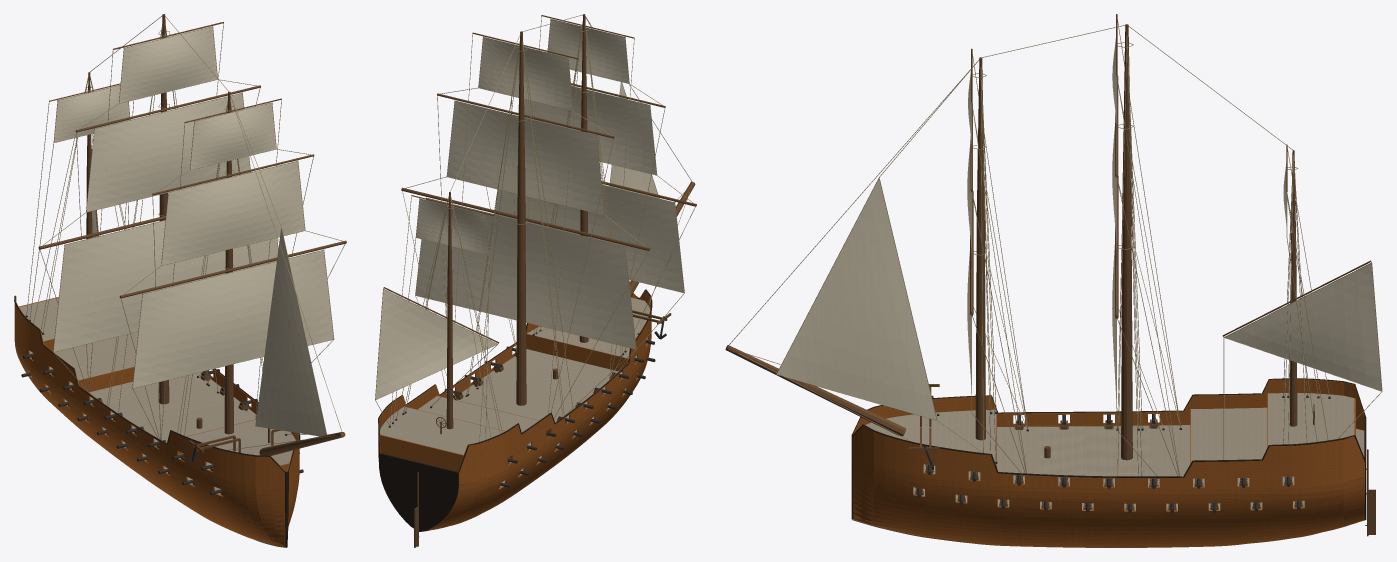
3 renders of one model, left to right at view 1: azimuth 30°, elevation 25°; view 2: azimuth 150°, elevation 25°; view 3: azimuth 270°, elevation 25°, orthographic. The views are drawn at different scales.
Parts seen in each view (by area): view 1: lod2_hull_shell_starboard, lod2_fore_square_00, lod2_main_square_00, lod2_main_square_01, lod2_fore_square_01, lod2_jib_00, lod2_main_deck, lod2_main_square_02, lod2_fore_square_02, lod2_mizzen_square_00, lod2_castle_deck_1, lod2_castle_deck_2 (+13 smaller); view 2: lod2_main_square_00, lod2_main_square_01, lod2_hull_shell_starboard, lod2_fore_square_00, lod2_mizzen_lateen_01, lod2_main_deck, lod2_fore_square_01, lod2_main_square_02, lod2_stern_closure, lod2_fore_square_02, lod2_castle_deck_0, lod2_main (+15 smaller); view 3: lod2_hull_shell_port, lod2_jib_00, lod2_mizzen_lateen_01, lod2_main_deck, lod2_hull_shell_starboard, lod2_main, lod2_castle_deck_1, lod2_castle_deck_0, lod2_castle_deck_2, lod2_fore, lod2_bowsprit, lod2_mizzen (+2 smaller).
Part boxes in pixels (left/top/right/bottom): lod2_hull_shell_starboard: left=14, top=296, right=285, bottom=546; lod2_fore_square_00: left=133, top=250, right=333, bottom=387; lod2_main_square_00: left=53, top=220, right=278, bottom=351; lod2_main_square_01: left=86, top=93, right=250, bottom=211; lod2_fore_square_01: left=161, top=161, right=304, bottom=265; lod2_jib_00: left=255, top=229, right=326, bottom=435; lod2_main_deck: left=29, top=351, right=256, bottom=470; lod2_main_square_02: left=119, top=27, right=217, bottom=103; lod2_fore_square_02: left=190, top=103, right=276, bottom=169; lod2_mizzen_square_00: left=54, top=85, right=129, bottom=142; lod2_castle_deck_1: left=54, top=332, right=138, bottom=380; lod2_castle_deck_2: left=187, top=420, right=295, bottom=465; lod2_main_square_00: left=415, top=198, right=635, bottom=348; lod2_main_square_01: left=447, top=101, right=604, bottom=214; lod2_hull_shell_starboard: left=427, top=290, right=651, bottom=530; lod2_fore_square_00: left=495, top=185, right=684, bottom=292; lod2_mizzen_lateen_01: left=375, top=289, right=496, bottom=399; lod2_main_deck: left=453, top=338, right=647, bottom=463; lod2_fore_square_01: left=524, top=86, right=656, bottom=174; lod2_main_square_02: left=478, top=37, right=572, bottom=110; lod2_stern_closure: left=379, top=453, right=458, bottom=531; lod2_fore_square_02: left=548, top=19, right=628, bottom=83; lod2_castle_deck_0: left=380, top=406, right=504, bottom=454; lod2_main: left=516, top=31, right=526, bottom=405; lod2_hull_shell_port: left=852, top=426, right=1364, bottom=547; lod2_jib_00: left=777, top=178, right=936, bottom=419; lod2_mizzen_lateen_01: left=1225, top=263, right=1381, bottom=390; lod2_main_deck: left=923, top=425, right=1364, bottom=487; lod2_hull_shell_starboard: left=853, top=379, right=1365, bottom=434; lod2_main: left=1121, top=24, right=1132, bottom=460; lod2_castle_deck_1: left=1191, top=407, right=1267, bottom=462; lod2_castle_deck_0: left=1268, top=393, right=1354, bottom=445; lod2_castle_deck_2: left=865, top=409, right=996, bottom=465; lod2_fore: left=975, top=57, right=985, bottom=440; lod2_bowsprit: left=725, top=345, right=906, bottom=436; lod2_mizzen: left=1289, top=150, right=1297, bottom=426.
Size of the model in its own units: 28.61 by 49.53 by 56.38.
Materials: 7 (7 with a texture image).
